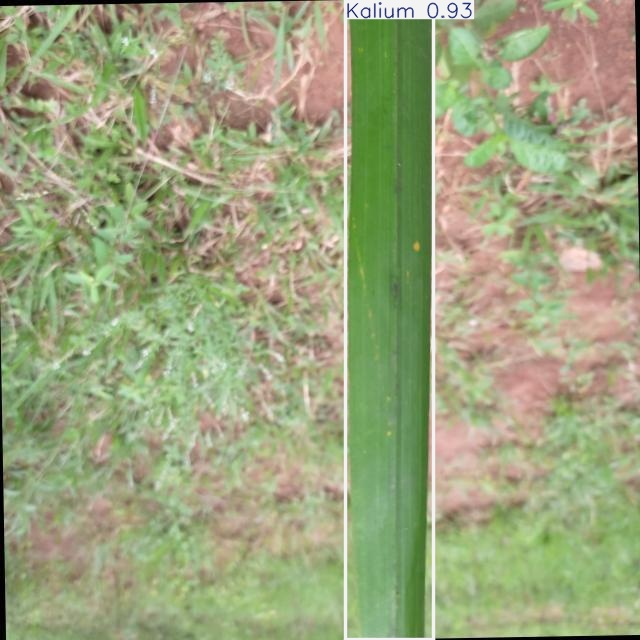Kalium: (345, 0, 434, 639)
